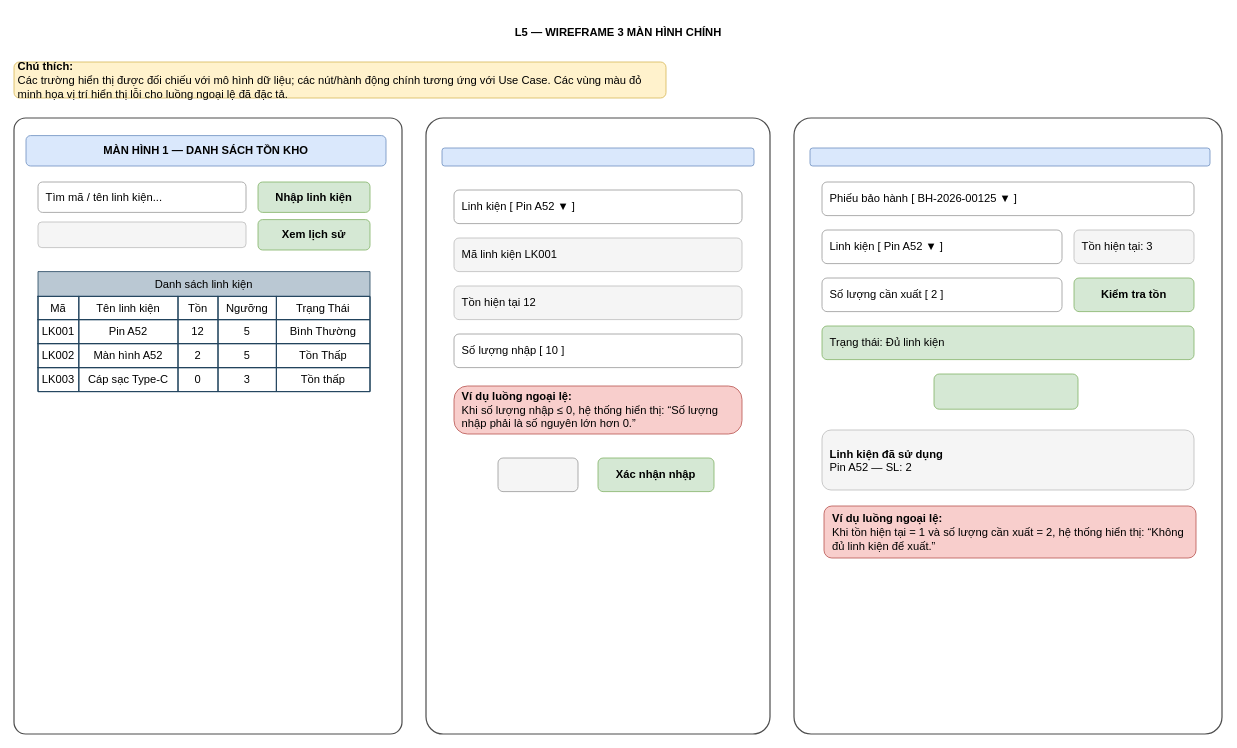
The diagram is 1237 pixels wide and 748 high, and some of its shapes have lost their labels. The centre of each missing label's shape, as x and y in pixels:
Hủy: the point at 537,474
MÀN HÌNH 2 — GHI NHẬN NHẬP LINH KIỆN: the point at 597,156
MÀN HÌNH 3 — XUẤT LINH KIỆN CHO PHIẾU BẢO HÀNH: the point at 1009,156
Xuất linh kiện: the point at 1005,391
☐ Chỉ xem linh kiện tồn thấp: the point at 141,234
